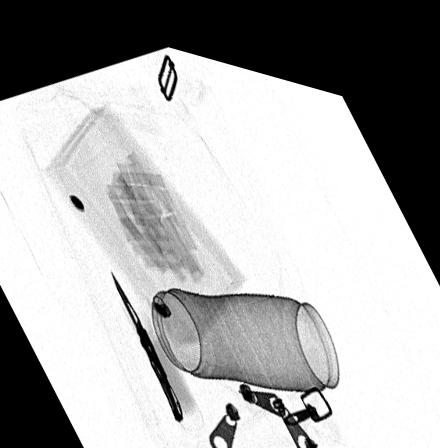Knife: (110, 262, 183, 412)
